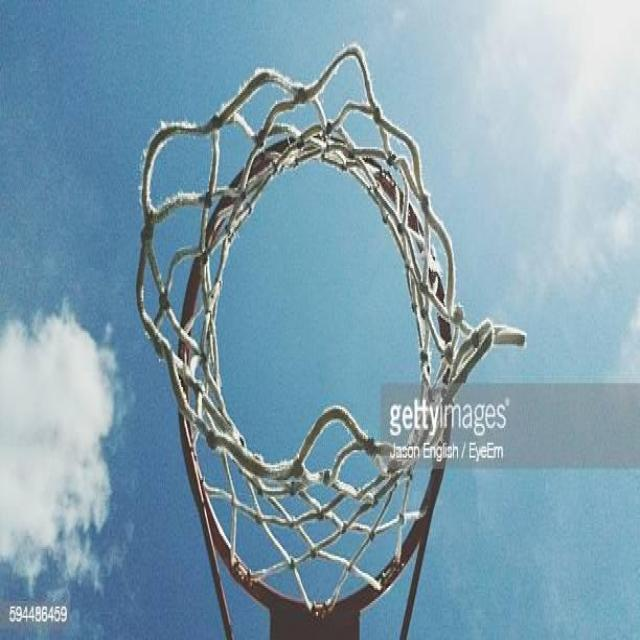hoop: (135, 45, 527, 624)
